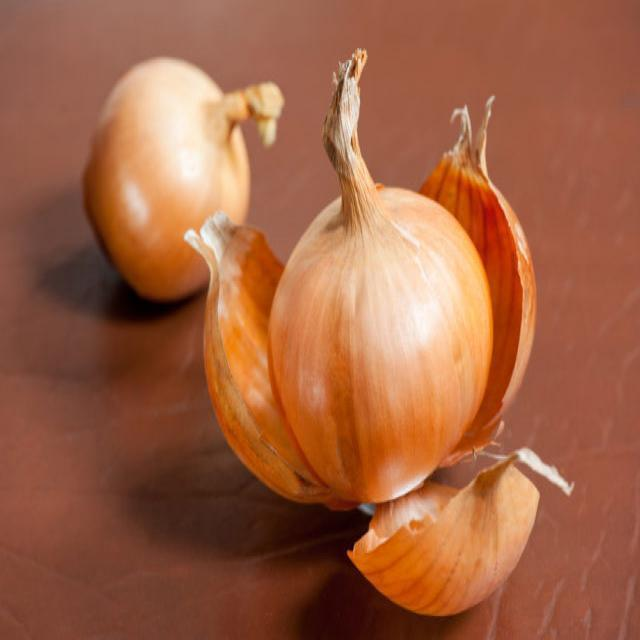Onion: (269, 49, 494, 506), (183, 210, 365, 508), (78, 54, 285, 300), (414, 94, 539, 466), (348, 448, 574, 616)
